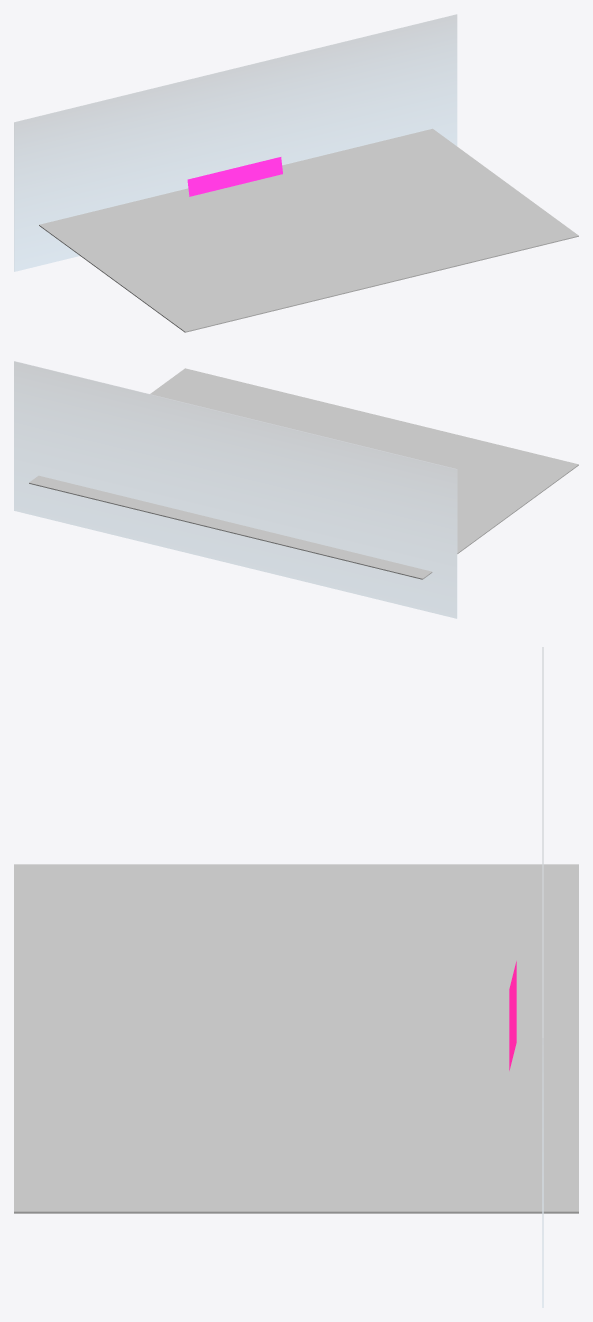
File: f_pan.glb
3 views of the same model, one above another, from view 1: azimuth 30°, elevation 25°; view 2: azimuth 150°, elevation 25°; view 3: azimuth 270°, elevation 25° (orthographic). The views are drawn at different scales.
Visible parts, largest first — view 1: Ground contact / transparent shadow receiver.034, Sky gradient / editable material.034, Flag cloth / full-bleed source fields.006; view 2: Sky gradient / editable material.034, Ground contact / transparent shadow receiver.034; view 3: Ground contact / transparent shadow receiver.034, Sky gradient / editable material.034.
Boxes of the visible parts, x1,y1,x2,y2 form: Ground contact / transparent shadow receiver.034: (39,128,578,332); Sky gradient / editable material.034: (14,14,457,271); Flag cloth / full-bleed source fields.006: (187,157,282,196); Sky gradient / editable material.034: (14,361,457,618); Ground contact / transparent shadow receiver.034: (29,368,578,579); Ground contact / transparent shadow receiver.034: (14,864,578,1213); Sky gradient / editable material.034: (542,647,543,1307).
Size of the model in its own units: 180 by 58 by 110.
